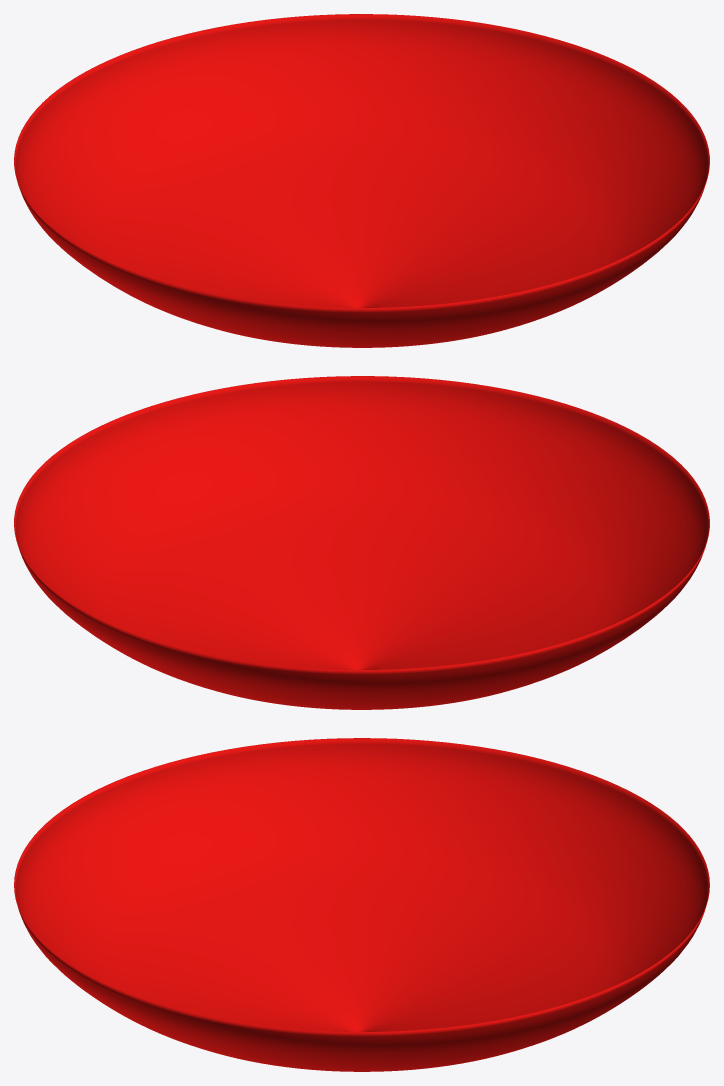
Rendered from Teller2.fbx.
3 views of the same model, one above another, from view 1: azimuth 30°, elevation 25°; view 2: azimuth 150°, elevation 25°; view 3: azimuth 270°, elevation 25° (orthographic).
Parts seen in each view (by area): view 1: Circle; view 2: Circle; view 3: Circle.
Part boxes in pixels (x1,y1,x2,y2): Circle: [14, 14, 709, 347]; Circle: [14, 376, 709, 709]; Circle: [14, 738, 709, 1071].
Size of the model in its own units: 150 by 40 by 150.
